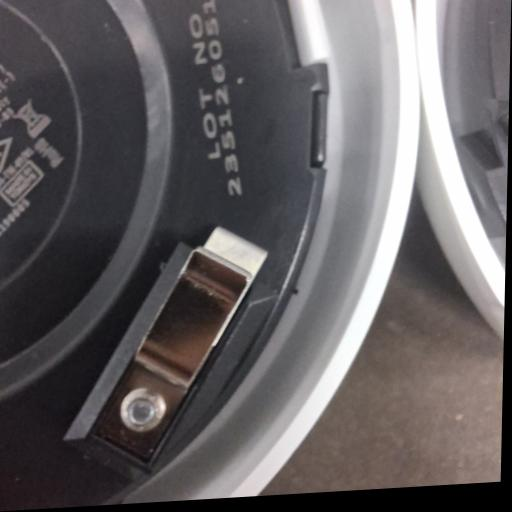yayli: (81, 222, 266, 471)
